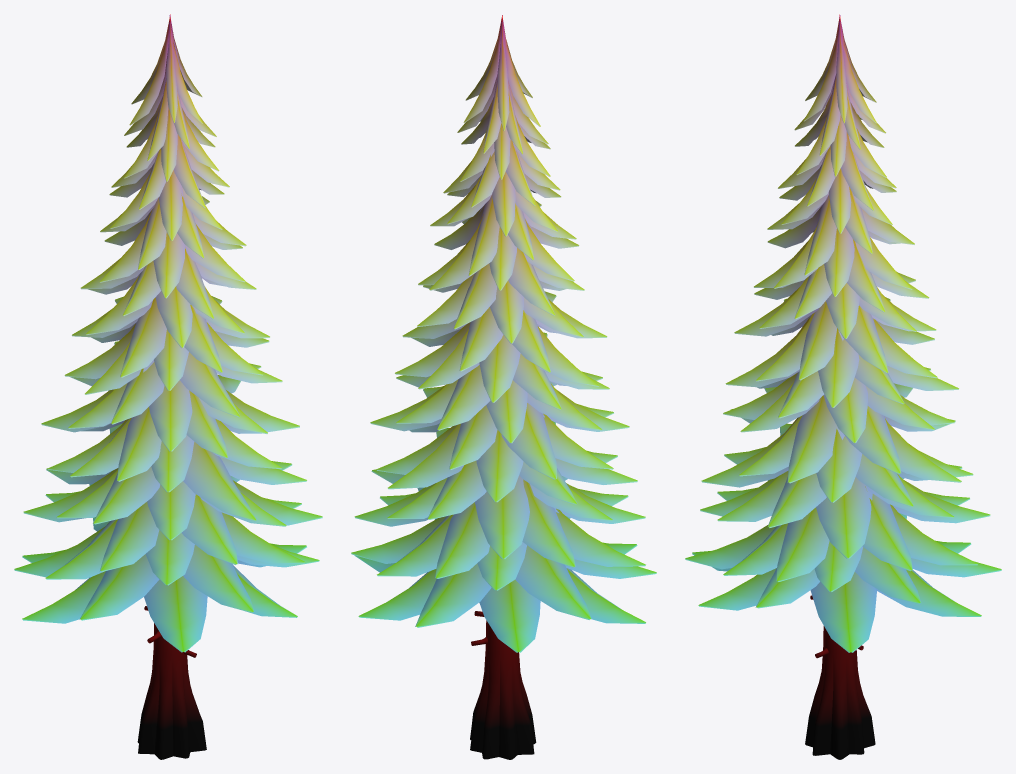
Rendered from Tree_C1_12m_1a.fbx.
The picture shows the model from 3 angles, left to right: view 1: azimuth 30°, elevation 25°; view 2: azimuth 150°, elevation 25°; view 3: azimuth 270°, elevation 25°; orthographic projection.
Parts seen in each view (by area): view 1: Tree_C1_12m_1a_LOD0; view 2: Tree_C1_12m_1a_LOD0; view 3: Tree_C1_12m_1a_LOD0.
Boxes of the visible parts, x1,y1,x2,y2 form: Tree_C1_12m_1a_LOD0: (14,14,322,759); Tree_C1_12m_1a_LOD0: (351,15,656,759); Tree_C1_12m_1a_LOD0: (685,14,1001,759).
Size of what is drawn, in the model's own units: 5.14 by 12.48 by 4.91.
